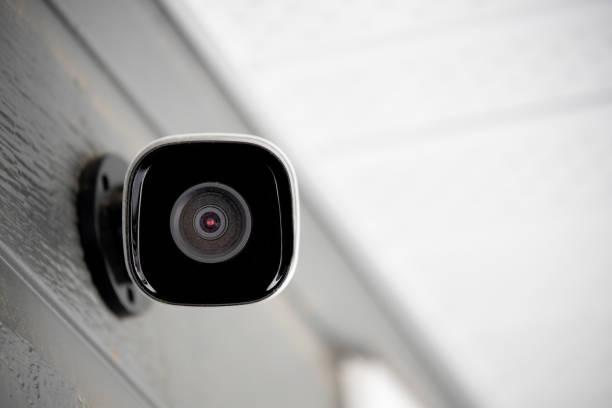camera: (108, 106, 303, 339)
